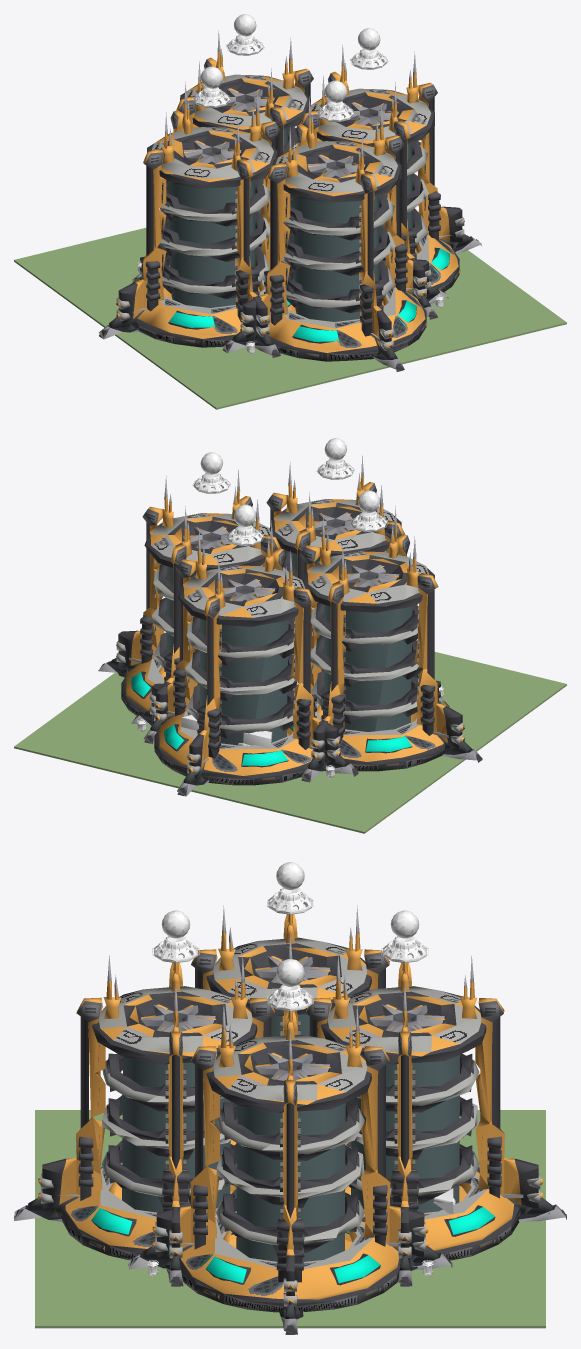
File: cold-fusion-facility.glb
The picture shows the model from 3 angles, top to bottom: view 1: azimuth 30°, elevation 25°; view 2: azimuth 150°, elevation 25°; view 3: azimuth 270°, elevation 25°; orthographic projection. The views are drawn at different scales.
Visible parts, largest first — view 1: ColdFusion_Pg_S, ColdFusion_Pg_W, Ground, ColdFusion_Pg_E, ColdFusion_Pg_N, ColdFusion_Cap_N, ColdFusion_Cap_E, ColdFusion_Cap_S, ColdFusion_Cap_W; view 2: ColdFusion_Pg_N, ColdFusion_Pg_W, Ground, ColdFusion_Pg_E, ColdFusion_Pg_S, ColdFusion_Cap_E, ColdFusion_Cap_S, ColdFusion_Cap_N, ColdFusion_Cap_W; view 3: ColdFusion_Pg_E, ColdFusion_Pg_S, ColdFusion_Pg_N, Ground, ColdFusion_Pg_W, ColdFusion_Cap_W, ColdFusion_Cap_E, ColdFusion_Cap_N, ColdFusion_Cap_S.
Boxes of the visible parts, x1,y1,x2,y2 form: ColdFusion_Pg_S: [223, 96, 448, 371]; ColdFusion_Pg_W: [98, 81, 292, 357]; Ground: [14, 227, 566, 409]; ColdFusion_Pg_E: [300, 44, 481, 319]; ColdFusion_Pg_N: [132, 30, 313, 281]; ColdFusion_Cap_N: [226, 14, 264, 55]; ColdFusion_Cap_E: [350, 28, 388, 69]; ColdFusion_Cap_S: [316, 80, 354, 122]; ColdFusion_Cap_W: [192, 66, 230, 107]; ColdFusion_Pg_N: [131, 520, 358, 796]; ColdFusion_Pg_W: [287, 506, 482, 782]; Ground: [14, 652, 566, 833]; ColdFusion_Pg_E: [98, 469, 281, 743]; ColdFusion_Pg_S: [266, 455, 449, 706]; ColdFusion_Cap_E: [192, 452, 230, 493]; ColdFusion_Cap_S: [316, 438, 354, 479]; ColdFusion_Cap_N: [226, 504, 264, 546]; ColdFusion_Cap_W: [349, 490, 388, 532]; ColdFusion_Pg_E: [128, 1002, 452, 1334]; ColdFusion_Pg_S: [14, 955, 275, 1286]; ColdFusion_Pg_N: [305, 955, 566, 1286]; Ground: [35, 1110, 545, 1328]; ColdFusion_Pg_W: [191, 905, 389, 1191]; ColdFusion_Cap_W: [267, 862, 313, 914]; ColdFusion_Cap_E: [267, 959, 313, 1011]; ColdFusion_Cap_N: [381, 910, 428, 962]; ColdFusion_Cap_S: [152, 910, 199, 962].
Size of the model in its own units: 34.65 by 21.34 by 34.65.
3 materials, 1 textured.
